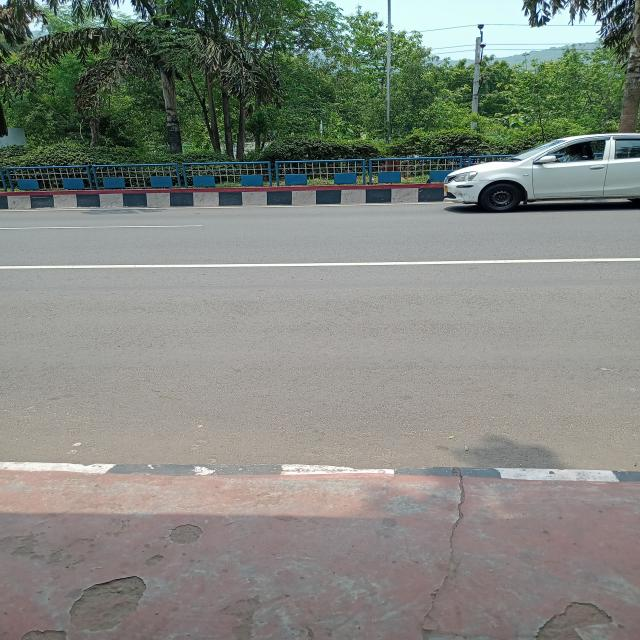car: (429, 128, 640, 224)
